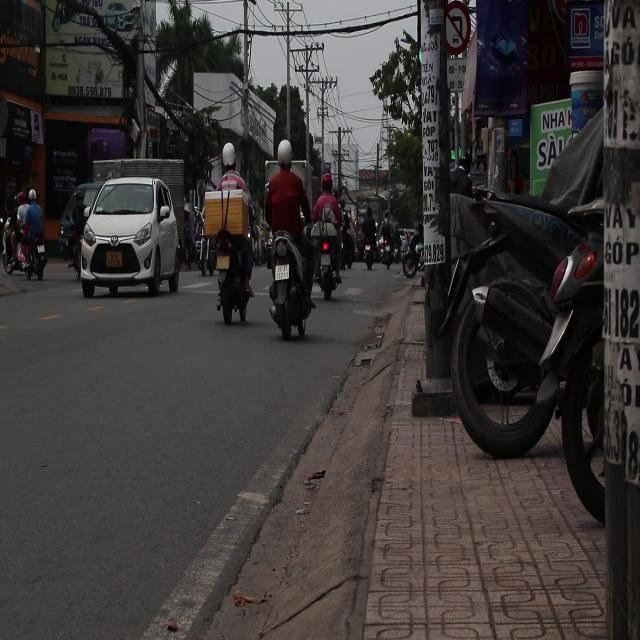car: (77, 171, 182, 299)
motorbike: (209, 200, 256, 328), (266, 232, 316, 338), (5, 199, 52, 306), (306, 188, 344, 298), (401, 228, 424, 276)
